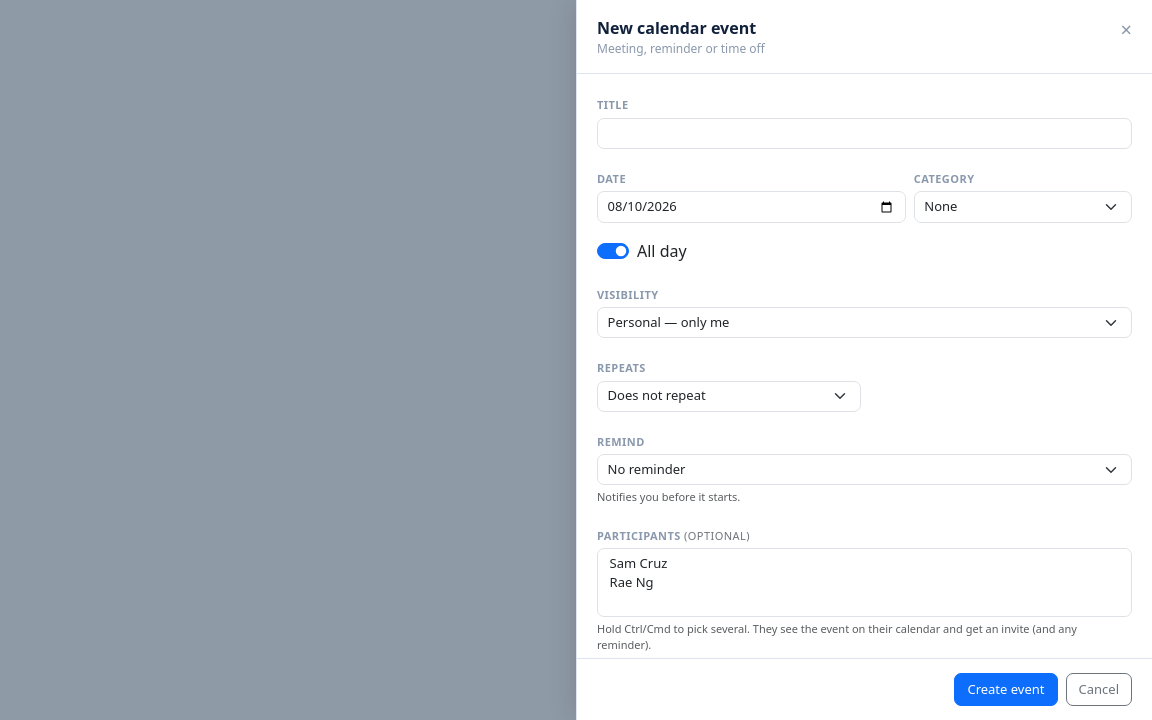
NewCalendarEventModal › hides the until field until an event repeats
Check: the field labelled "Until" is not shown
Select "Monthly" in the dropdown labelled "Repeats": [729, 396] box [597,381,860,412]
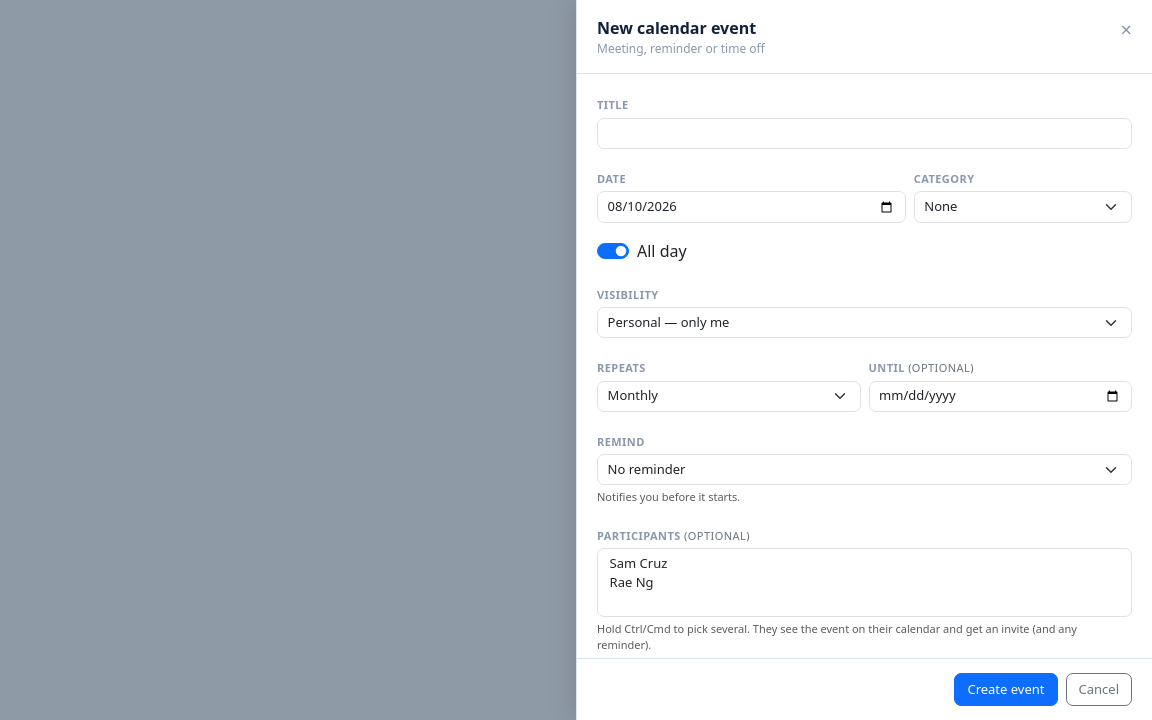
Check: the date field labelled "Until (optional)" is shown, box [868,381,1132,412]
